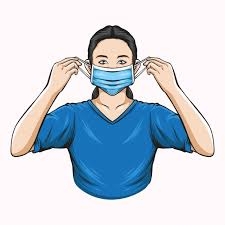masked: (81, 32, 142, 93)
